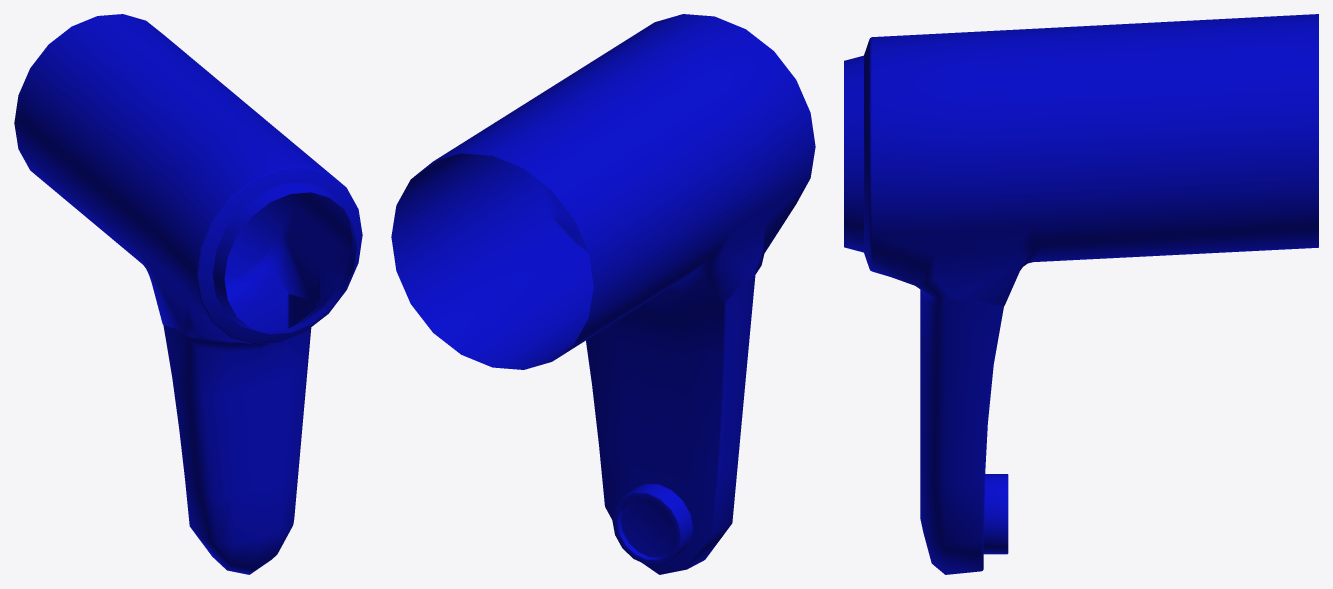
The model's file is faucet_base.obj.
The picture shows the model from 3 angles, left to right: view 1: azimuth 30°, elevation 25°; view 2: azimuth 150°, elevation 25°; view 3: azimuth 270°, elevation 25°; orthographic projection. The views are drawn at different scales.
Parts seen in each view (by area): view 1: faucet_base_Circle.008; view 2: faucet_base_Circle.008; view 3: faucet_base_Circle.008.
Boxes of the visible parts, x1=… form: faucet_base_Circle.008: x1=14, y1=14, x2=362, y2=574; faucet_base_Circle.008: x1=391, y1=14, x2=815, y2=574; faucet_base_Circle.008: x1=844, y1=14, x2=1318, y2=574.
Bounding box in the file's own units: 0.0609 × 0.1569 × 0.1228.
